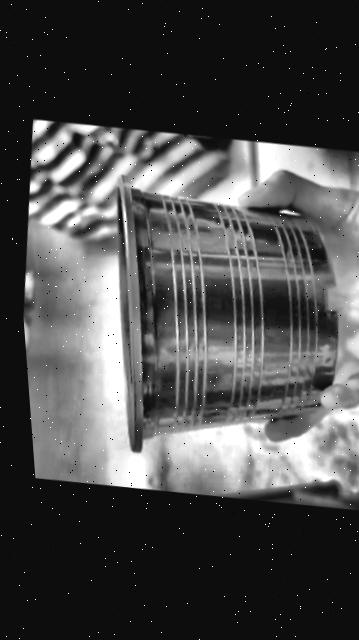pot: (114, 176, 336, 451)
